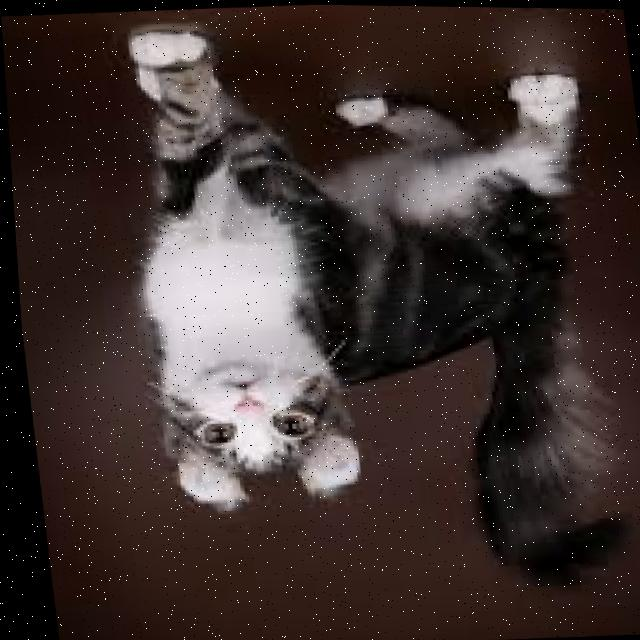American Curl: (95, 5, 640, 614)
